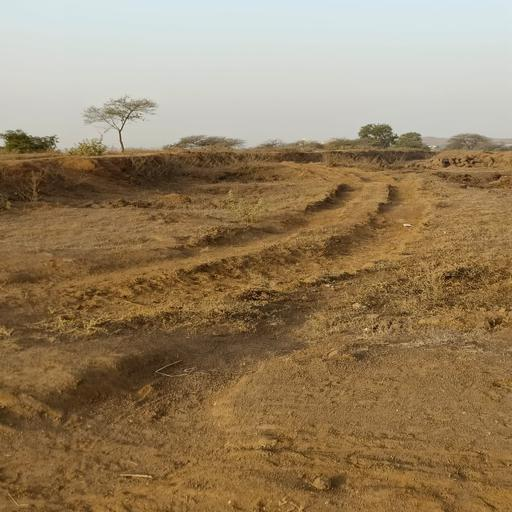vehicle_track: (0, 188, 361, 296), (260, 176, 432, 284)
